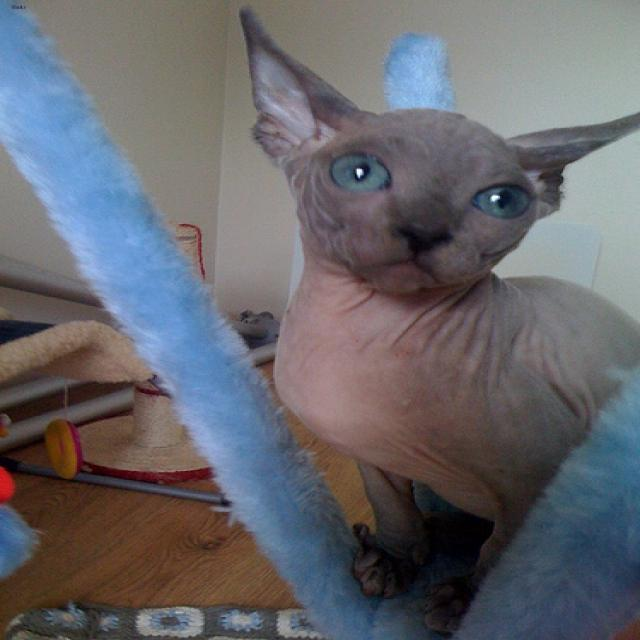Sphynx: (239, 5, 637, 291)
